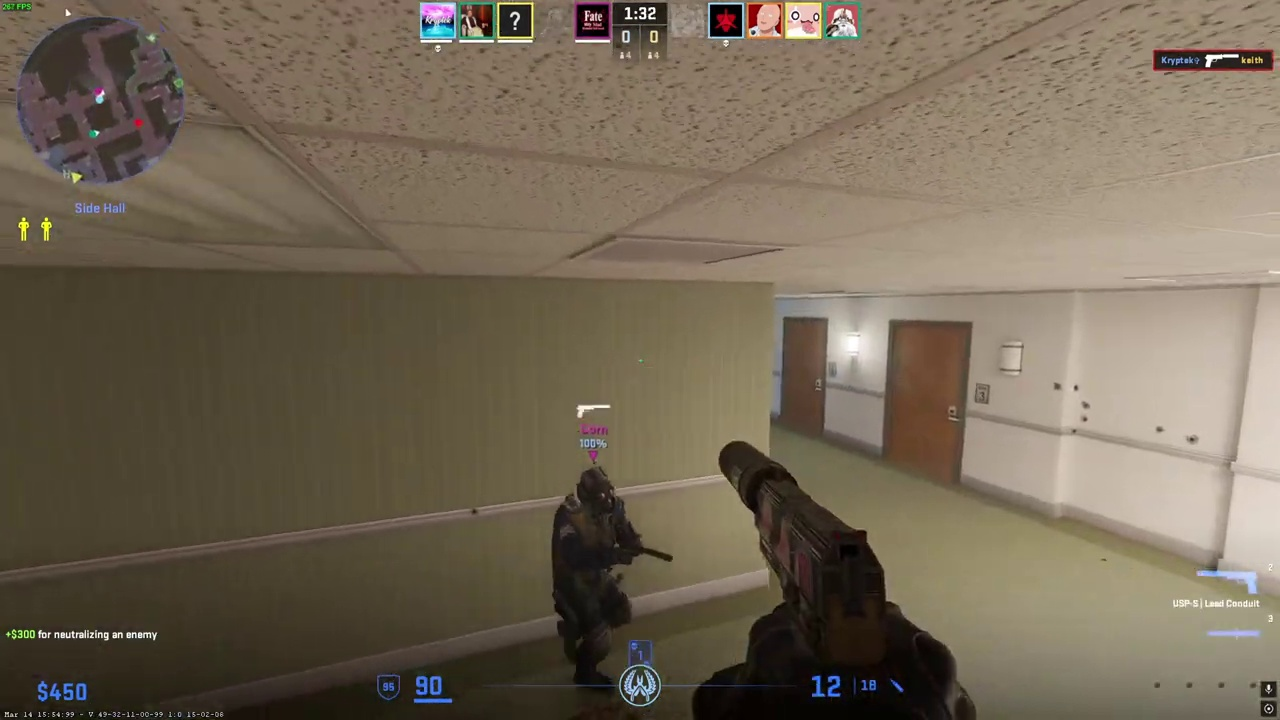CT: (551, 466, 644, 688)
